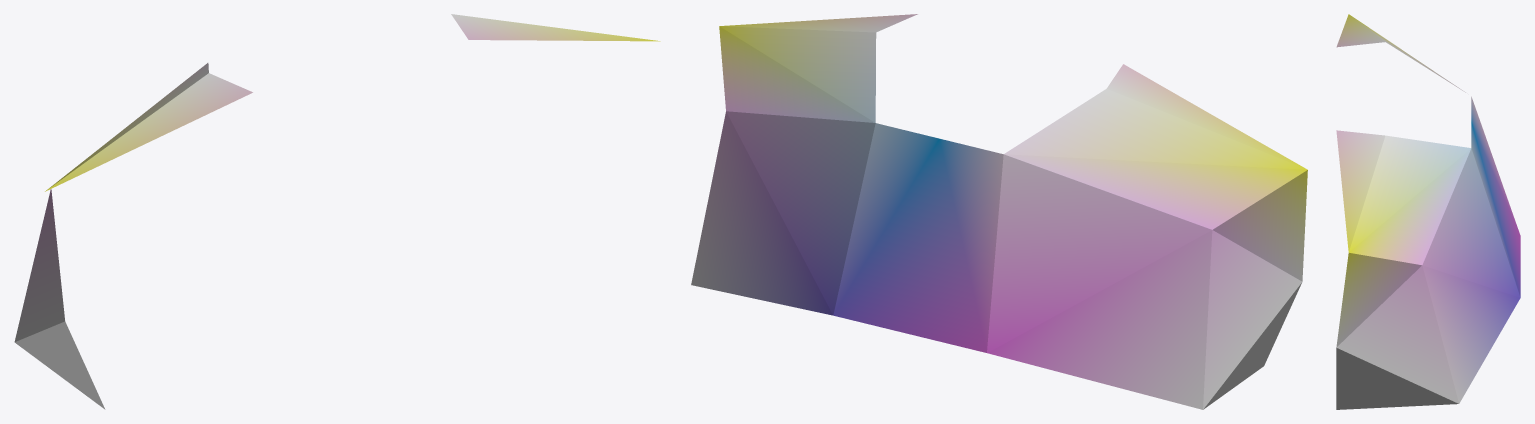
3 views of the same model, side by side, from view 1: azimuth 30°, elevation 25°; view 2: azimuth 150°, elevation 25°; view 3: azimuth 270°, elevation 25° (orthographic). The views are drawn at different scales.
Visible parts, largest first — view 1: model_110C; view 2: model_110C; view 3: model_110C.
Boxes of the visible parts, x1,y1,x2,y2 form: model_110C: (14,14,660,409); model_110C: (691,14,1307,409); model_110C: (1336,14,1520,409).
Bounding box in the file's own units: 46 × 20 × 15.
